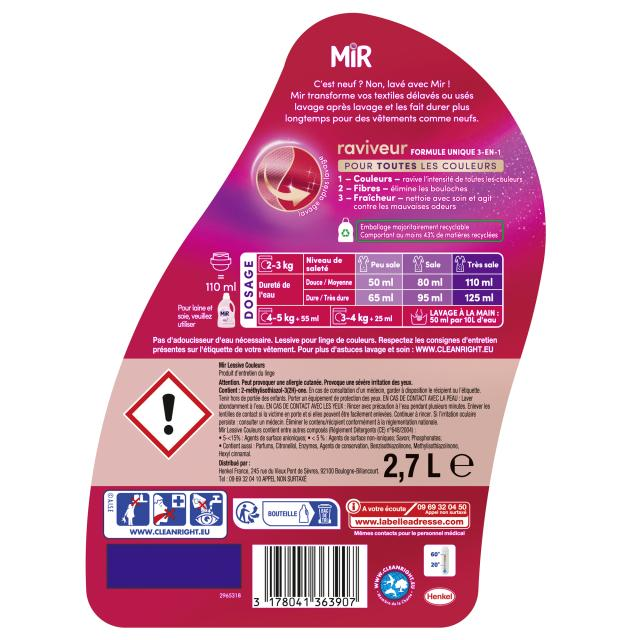GHS_Symbol_EXCLAMATION_MARK: (126, 370, 214, 457)
